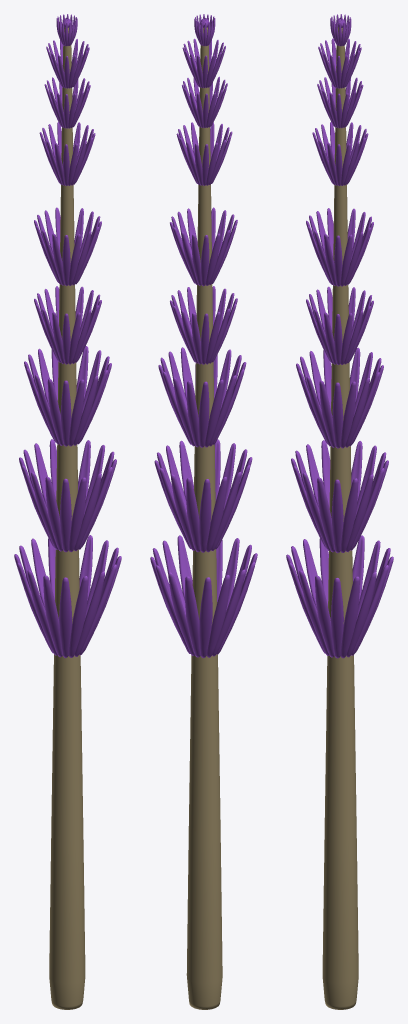
File: lavanda.fbx
3 renders of one model, left to right at view 1: azimuth 90°, elevation 25°; view 2: azimuth 210°, elevation 25°; view 3: azimuth 270°, elevation 25°, orthographic.
Visible parts, largest first — view 1: lavanda; view 2: lavanda; view 3: lavanda.
Boxes of the visible parts, x1,y1,x2,y2 form: lavanda: (14, 14, 121, 1009); lavanda: (150, 14, 257, 1009); lavanda: (286, 14, 393, 1009).
Size of the model in its own units: 17.39 by 176 by 17.4.
